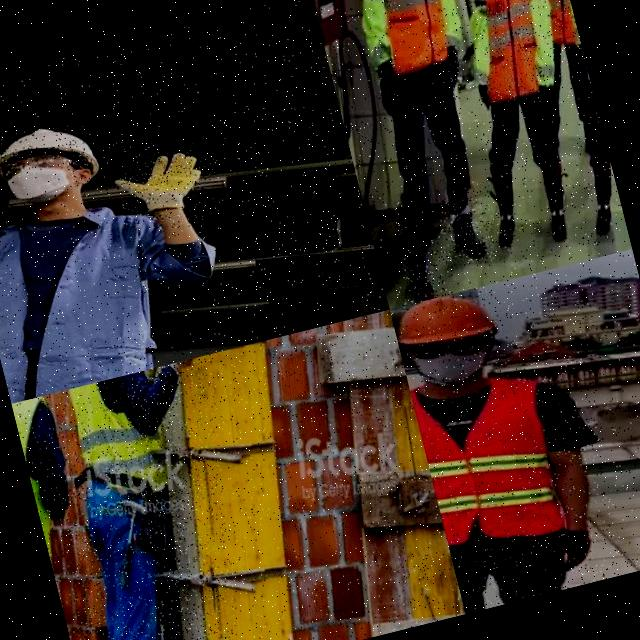boots: (427, 188, 505, 276), (388, 242, 453, 306), (484, 198, 534, 258)
helmet: (389, 280, 518, 367), (0, 109, 100, 189)
vest: (408, 350, 588, 563), (49, 367, 190, 526), (10, 393, 94, 571), (451, 0, 573, 112), (359, 0, 476, 82), (519, 0, 580, 50)
